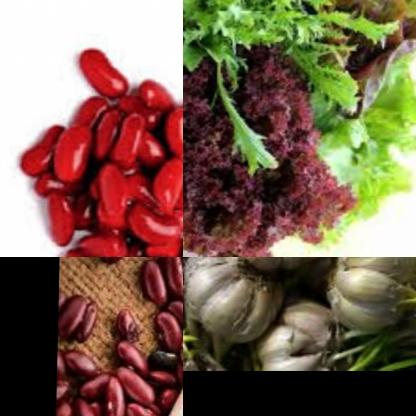cucumber: (183, 83, 335, 257), (305, 0, 416, 96)
fasol: (7, 28, 183, 257), (52, 257, 183, 416)
garlic: (183, 257, 416, 370)
salad: (337, 83, 416, 244)
